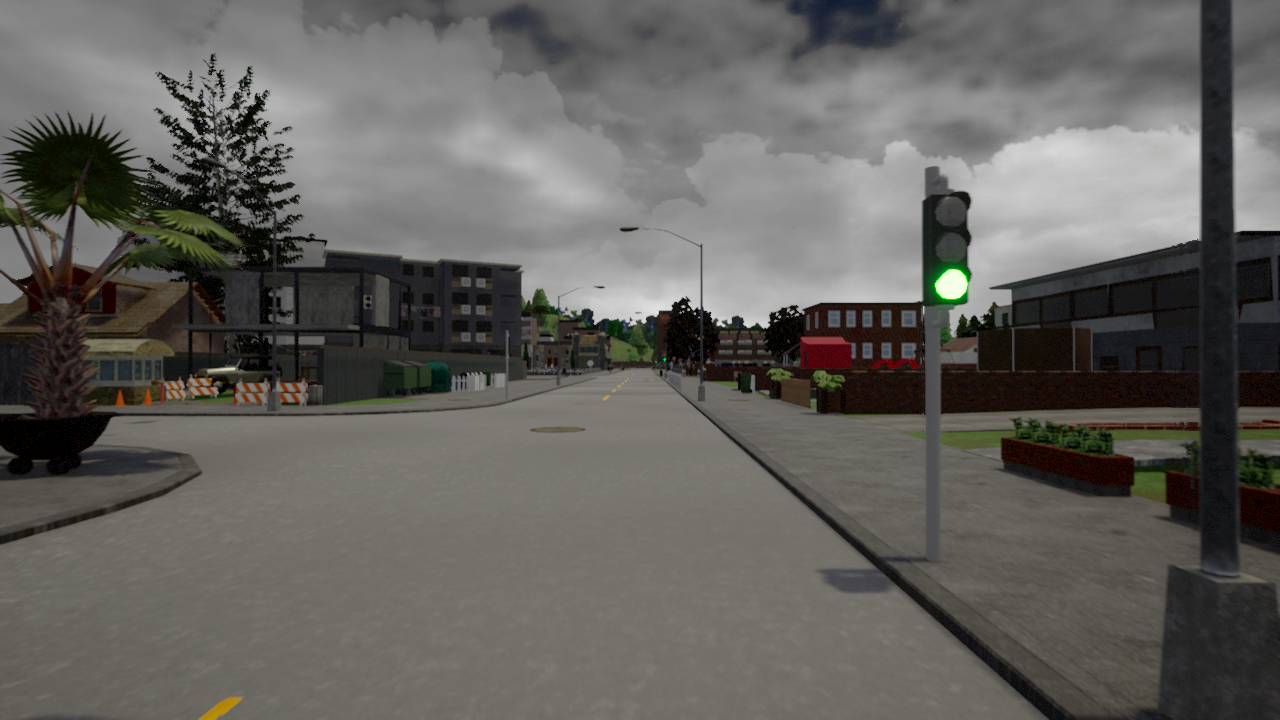green: (922, 189, 977, 305)
